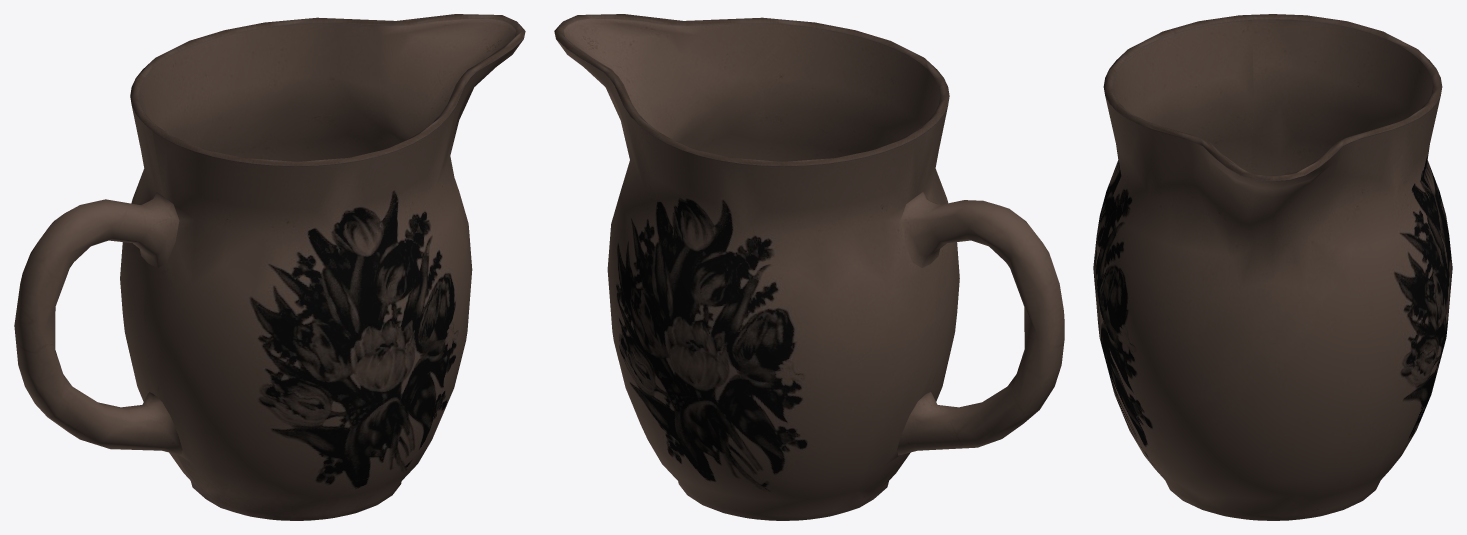
Rendered from ph_jug.gltf.
3 views of the same model, side by side, from view 1: azimuth 30°, elevation 25°; view 2: azimuth 150°, elevation 25°; view 3: azimuth 270°, elevation 25° (orthographic). The views are drawn at different scales.
Parts seen in each view (by area): view 1: ph_jug; view 2: ph_jug; view 3: ph_jug.
Part boxes in pixels (box(x1,y1,x2,y2)): ph_jug: box(14, 14, 525, 520); ph_jug: box(554, 14, 1064, 520); ph_jug: box(1093, 14, 1452, 520).
Size of the model in its own units: 0.2755 by 0.2114 by 0.1679.
Materials: 1 (1 with a texture image).
